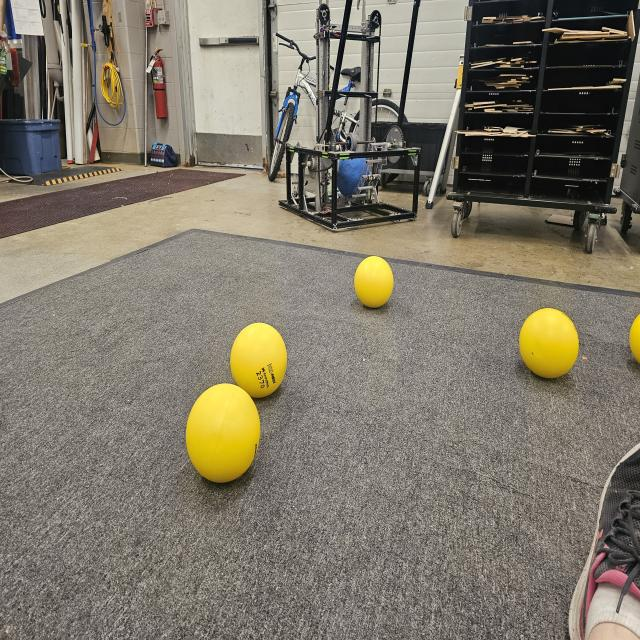Fuel: (187, 383, 260, 482), (519, 310, 579, 379), (232, 323, 286, 398), (355, 256, 393, 308), (630, 312, 640, 365)
